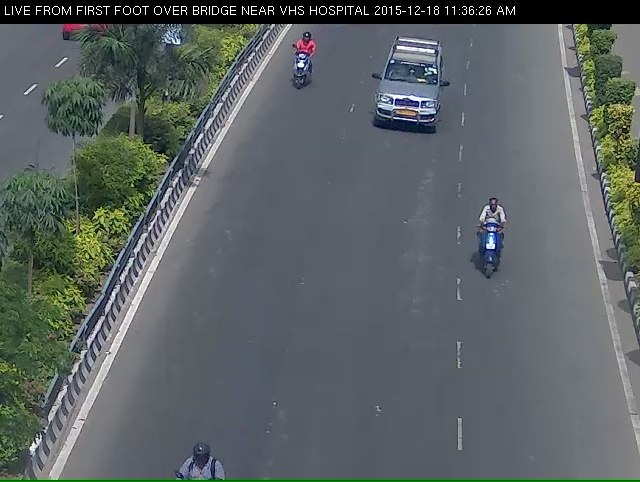Car: (361, 46, 458, 153)
Person: (474, 211, 522, 305), (281, 45, 313, 120)
